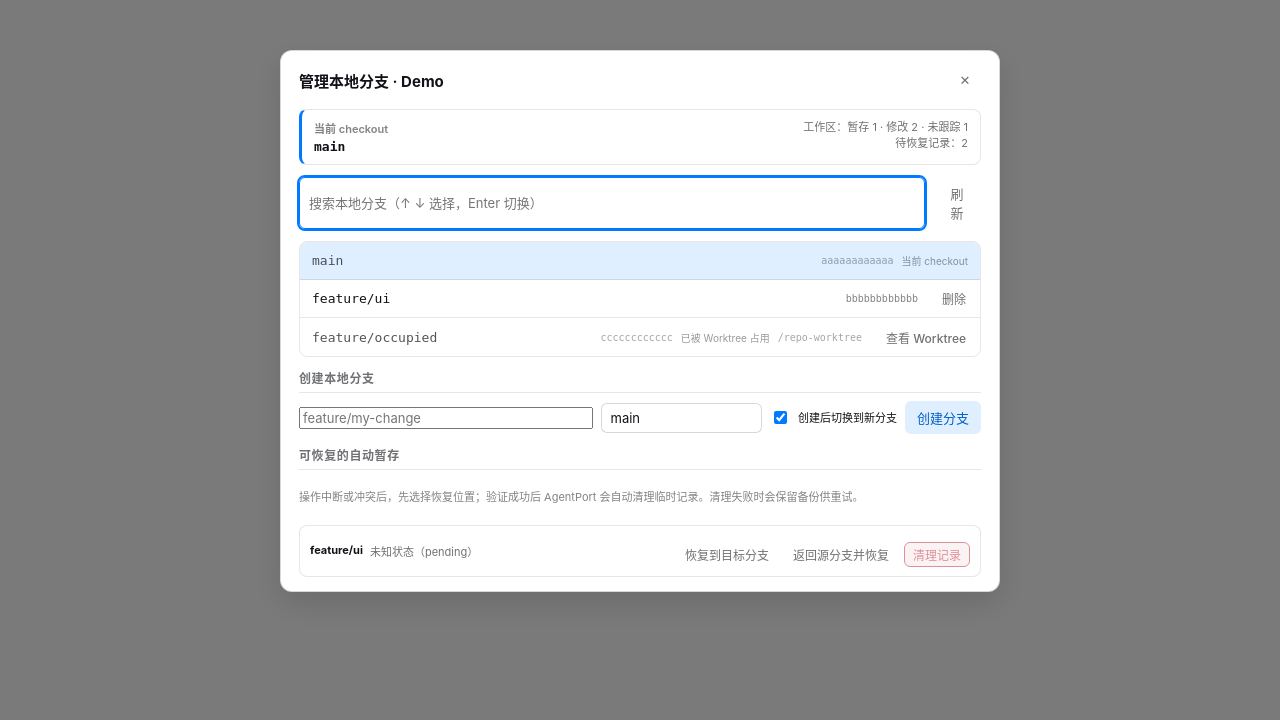
Test: local branch management › does not offer force delete for other blocked deletion failures
Click the button with aria-label "删除分支 feature/ui" at (954, 299), box [933, 286, 975, 311]
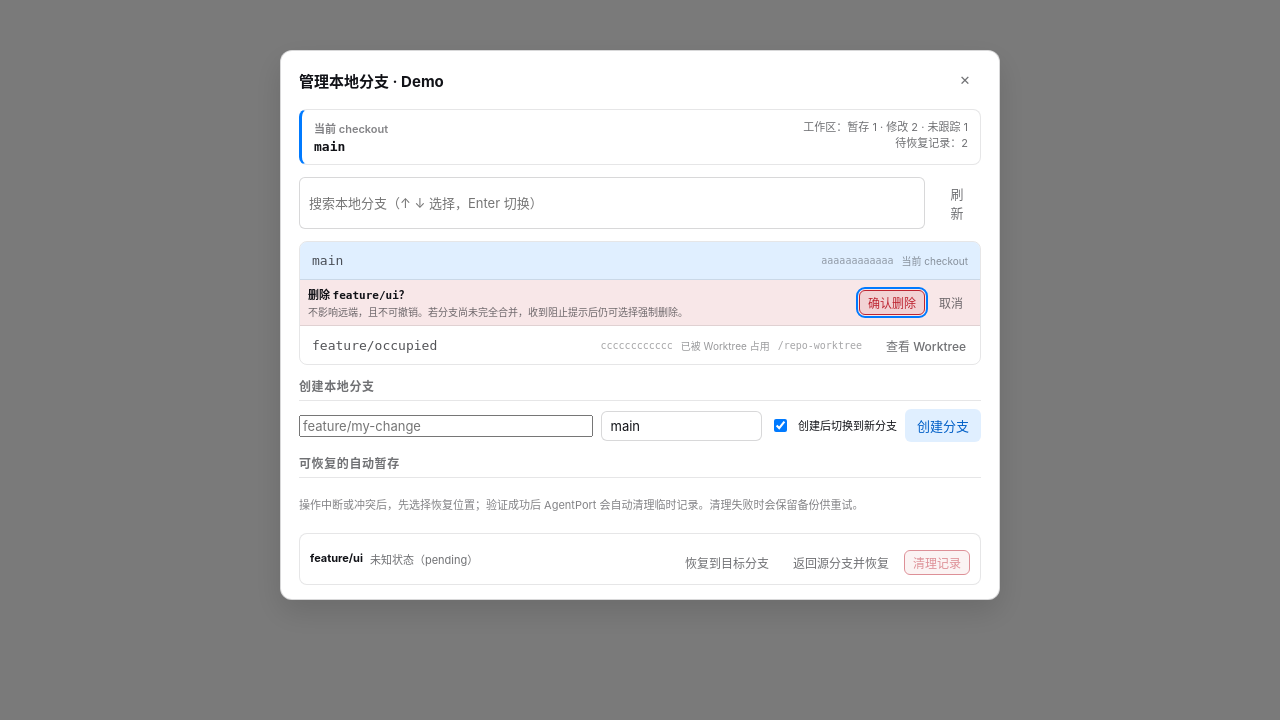
Click the button "确认删除" at (892, 303), box [859, 290, 925, 315]
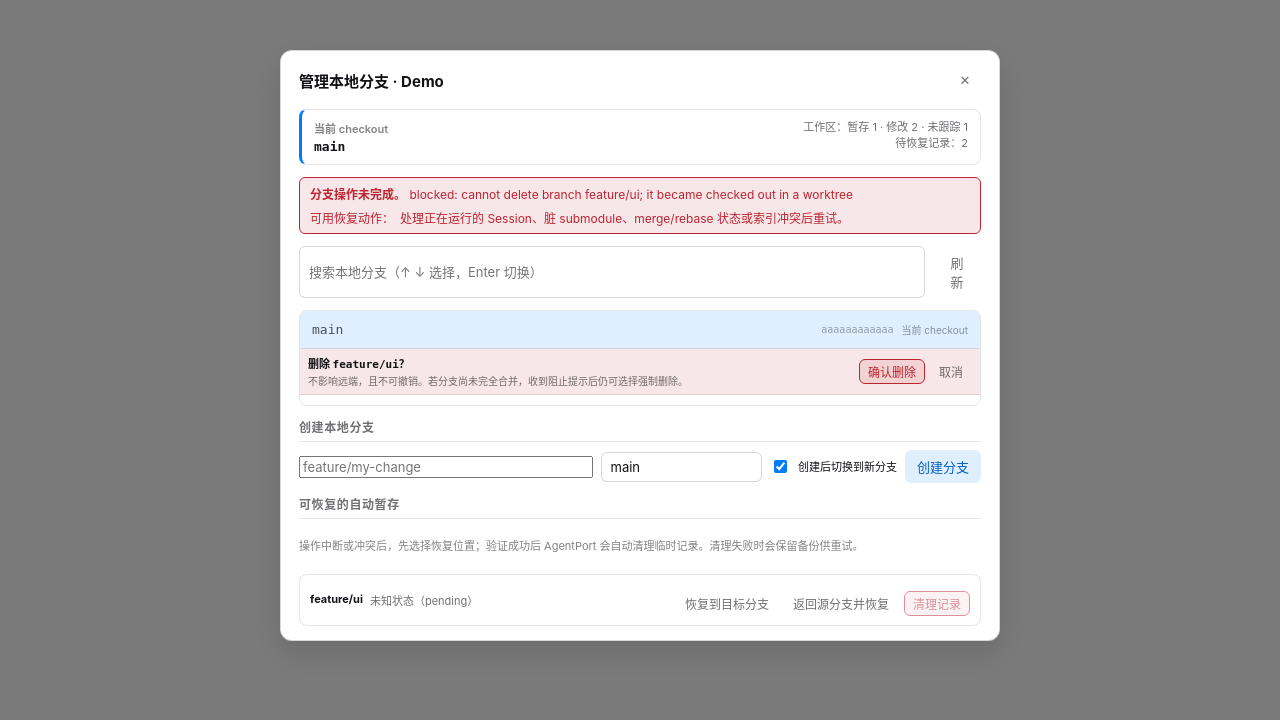
Result: the text "became checked out in a worktree" is shown at [409, 187, 853, 202]
